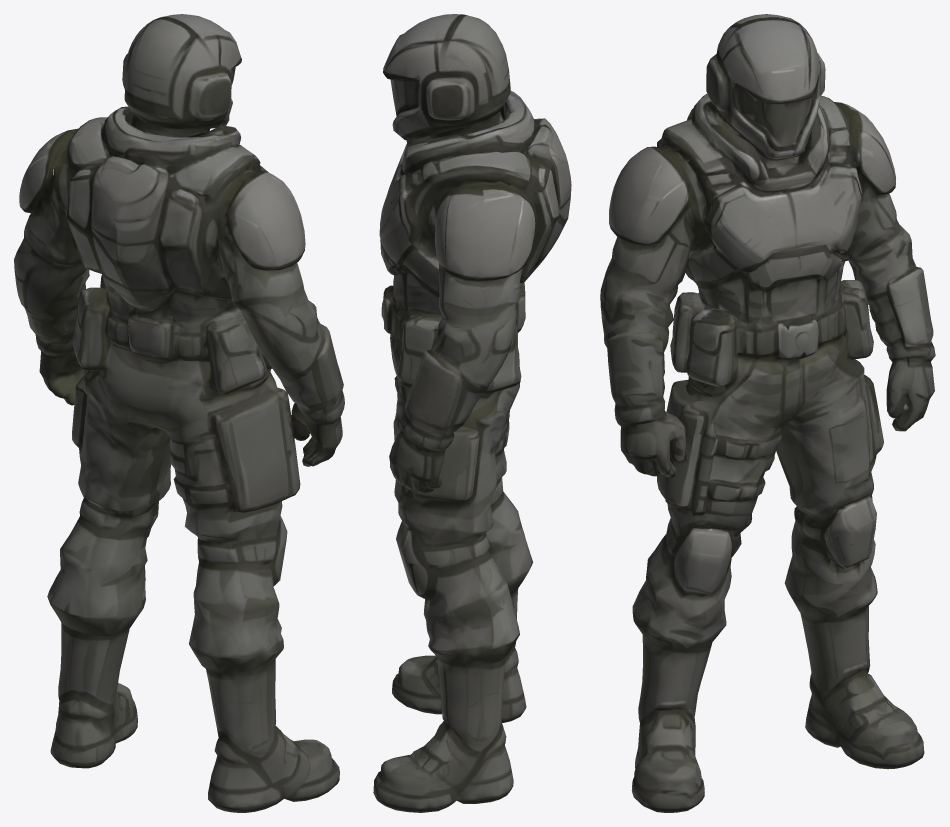
Rendered from StandingModel.glb.
3 views of the same model, side by side, from view 1: azimuth 30°, elevation 25°; view 2: azimuth 150°, elevation 25°; view 3: azimuth 270°, elevation 25° (orthographic). The views are drawn at different scales.
Parts seen in each view (by area): view 1: tripo_node_ad9cb7d3-50d5-4fed-8d02-364add59ca5d; view 2: tripo_node_ad9cb7d3-50d5-4fed-8d02-364add59ca5d; view 3: tripo_node_ad9cb7d3-50d5-4fed-8d02-364add59ca5d.
Part boxes in pixels (x1=…): tripo_node_ad9cb7d3-50d5-4fed-8d02-364add59ca5d: x1=14, y1=14, x2=344, y2=812; tripo_node_ad9cb7d3-50d5-4fed-8d02-364add59ca5d: x1=373, y1=14, x2=571, y2=812; tripo_node_ad9cb7d3-50d5-4fed-8d02-364add59ca5d: x1=600, y1=14, x2=935, y2=812.
Bounding box in the file's own units: 0.3082 × 0.9999 × 0.407.
1 material, 1 textured.
